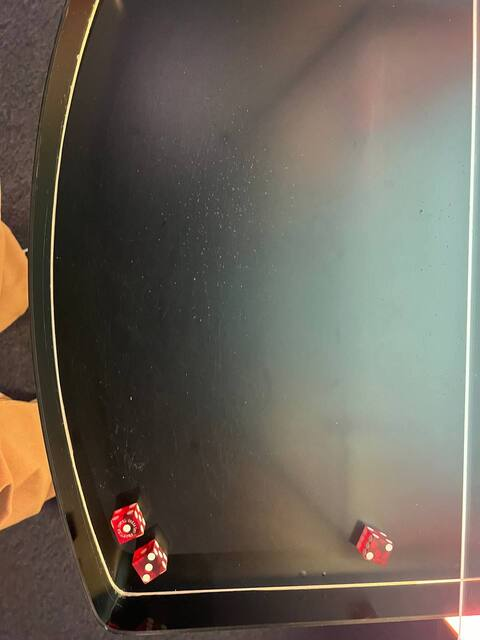one: (109, 512, 144, 545)
three: (130, 551, 165, 584)
two: (360, 538, 397, 569)
